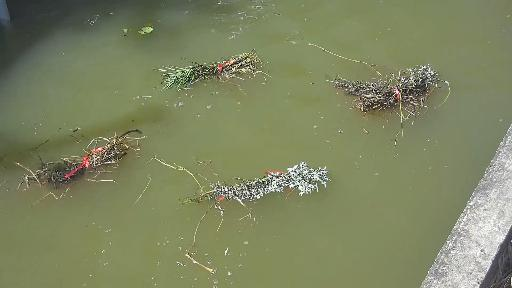leaf: (106, 22, 162, 39)
twig: (150, 154, 377, 256), (307, 39, 447, 125), (24, 122, 162, 194), (156, 52, 275, 89)
